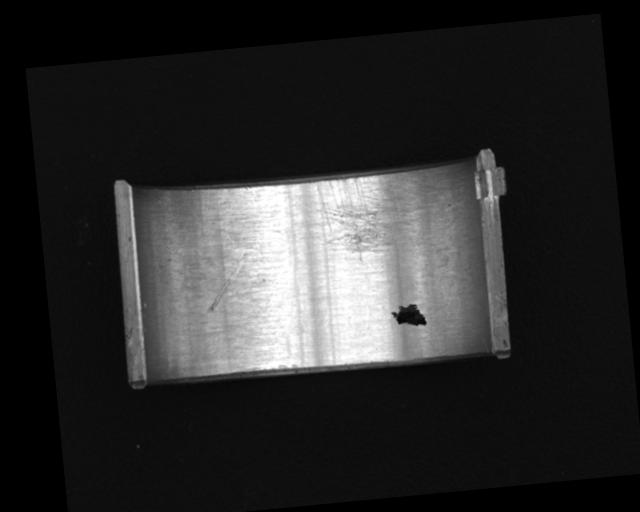blot: (389, 302, 428, 329)
nick: (201, 253, 249, 313)
scratch: (316, 165, 440, 265)
